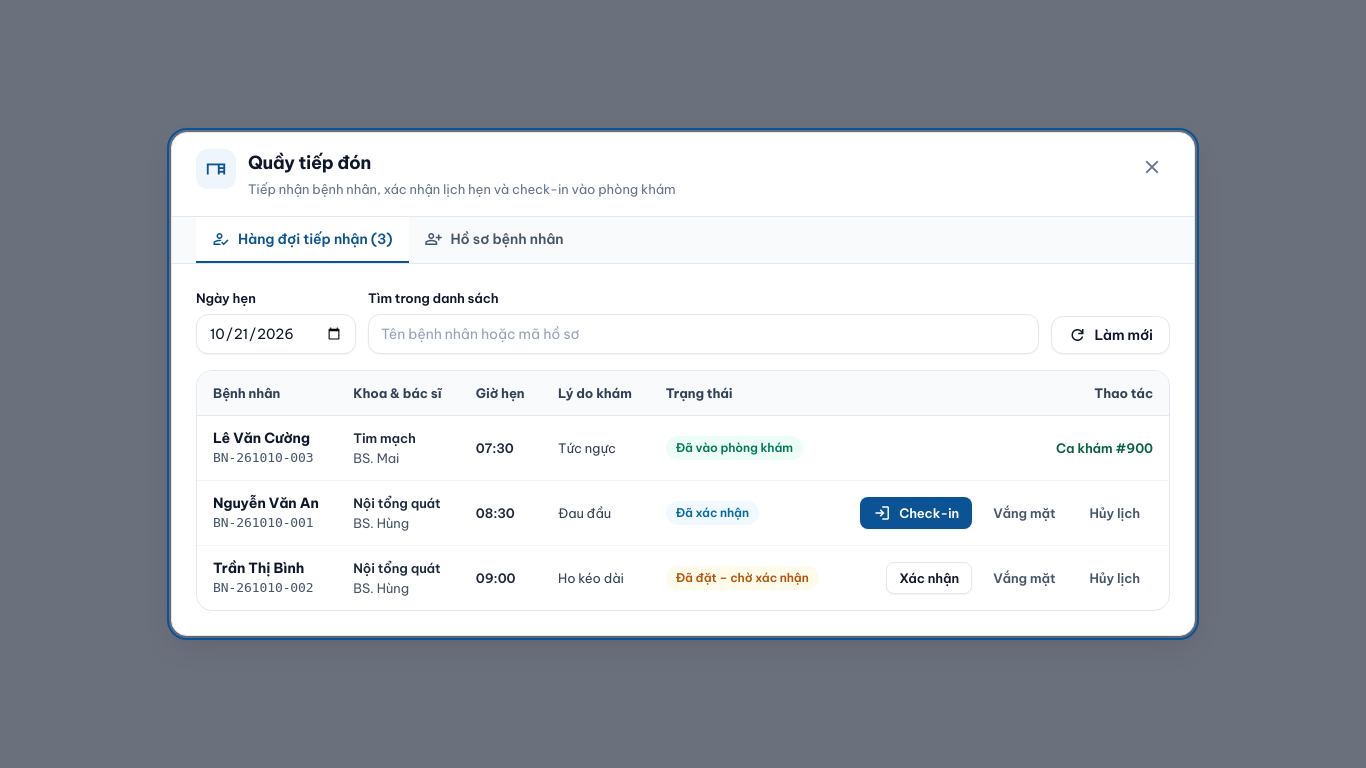
Test: ReceptionDashboardModal – giao diện quầy tiếp đón › hủy lịch hẹn: nhập lý do rồi gọi PATCH /appointments/{id}/cancel kèm lý do
Expected: the text "Trần Thị Bình" is shown, [213, 559, 304, 577]
Click the button with aria-label "Hủy lịch hẹn của Trần Thị Bình": (1115, 578) [1076, 562, 1153, 594]
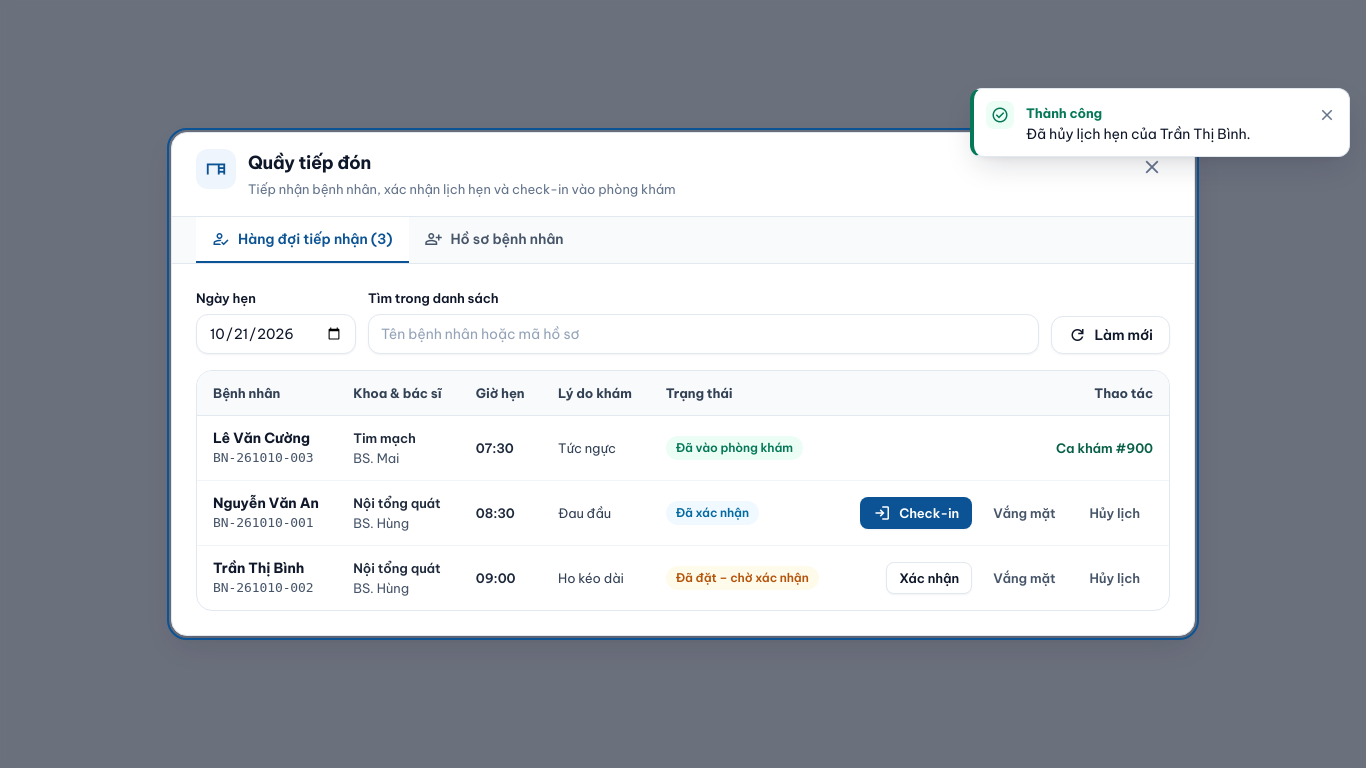
Expected: the text "Đã hủy lịch hẹn của Trần Thị Bình." is shown, [1026, 125, 1250, 143]
